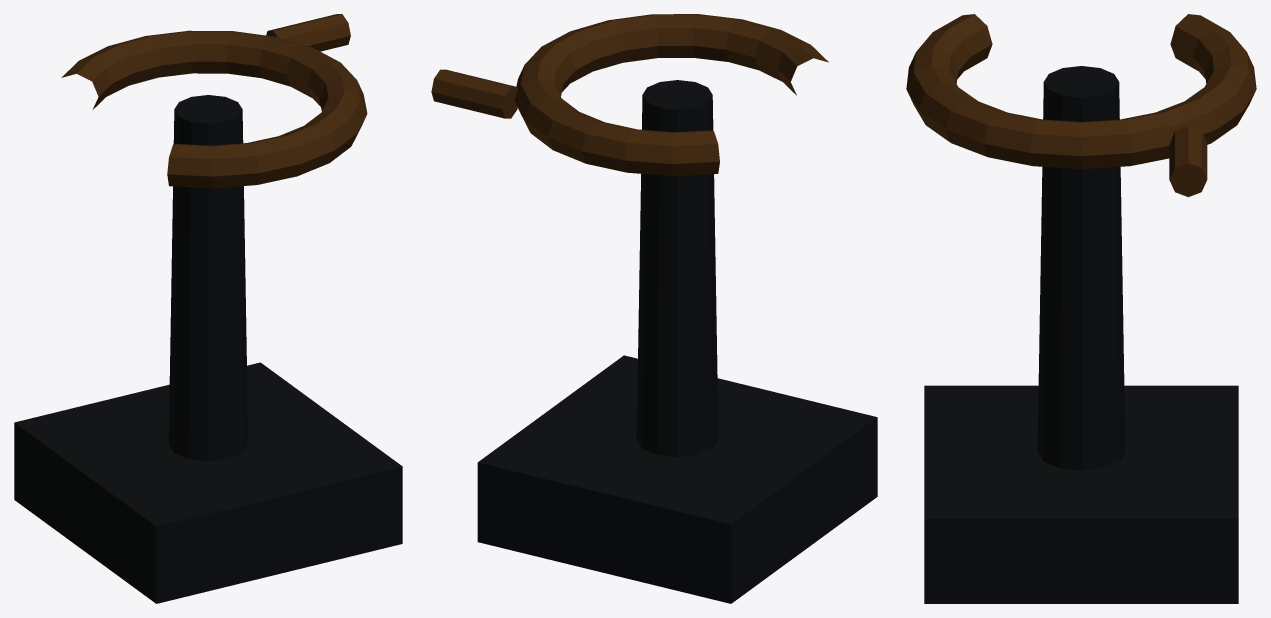
File: clamp.glb
3 renders of one model, left to right at view 1: azimuth 30°, elevation 25°; view 2: azimuth 150°, elevation 25°; view 3: azimuth 270°, elevation 25°, orthographic. The views are drawn at different scales.
Visible parts, largest first — view 1: iron, brass; view 2: iron, brass; view 3: iron, brass.
Part boxes in pixels (x1=…): iron: x1=14, y1=95, x2=402, y2=603; brass: x1=61, y1=14, x2=367, y2=188; iron: x1=477, y1=80, x2=877, y2=603; brass: x1=431, y1=14, x2=828, y2=176; iron: x1=924, y1=66, x2=1238, y2=603; brass: x1=906, y1=14, x2=1256, y2=197.
Size of the model in its own units: 0.062 by 0.084 by 0.0557.
